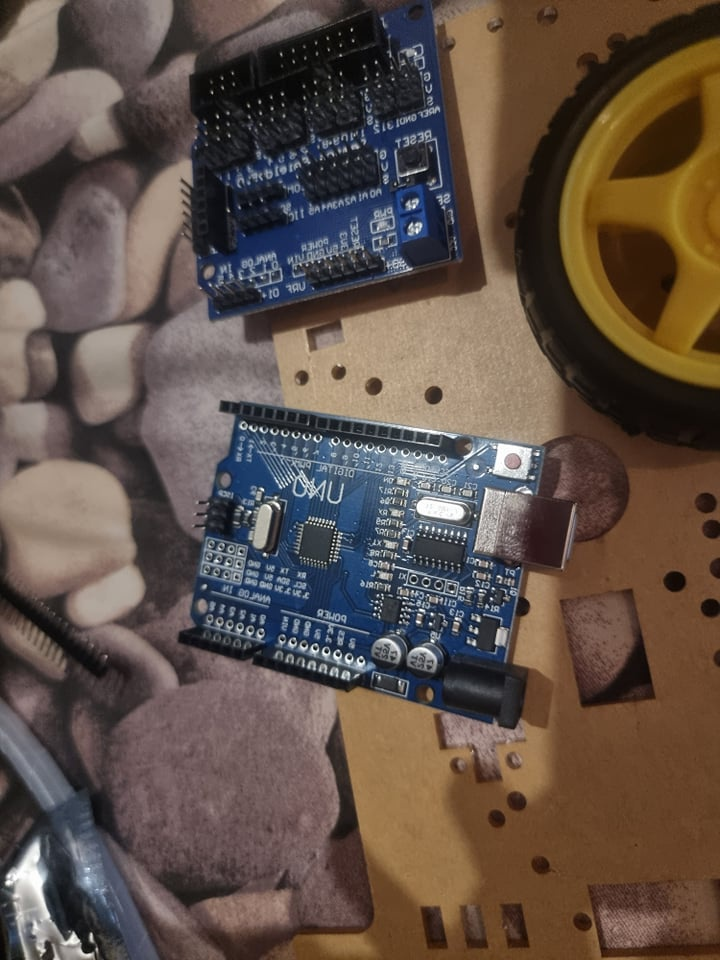5V EXPANSION: (185, 2, 463, 323)
UNO R3: (177, 401, 599, 732)
